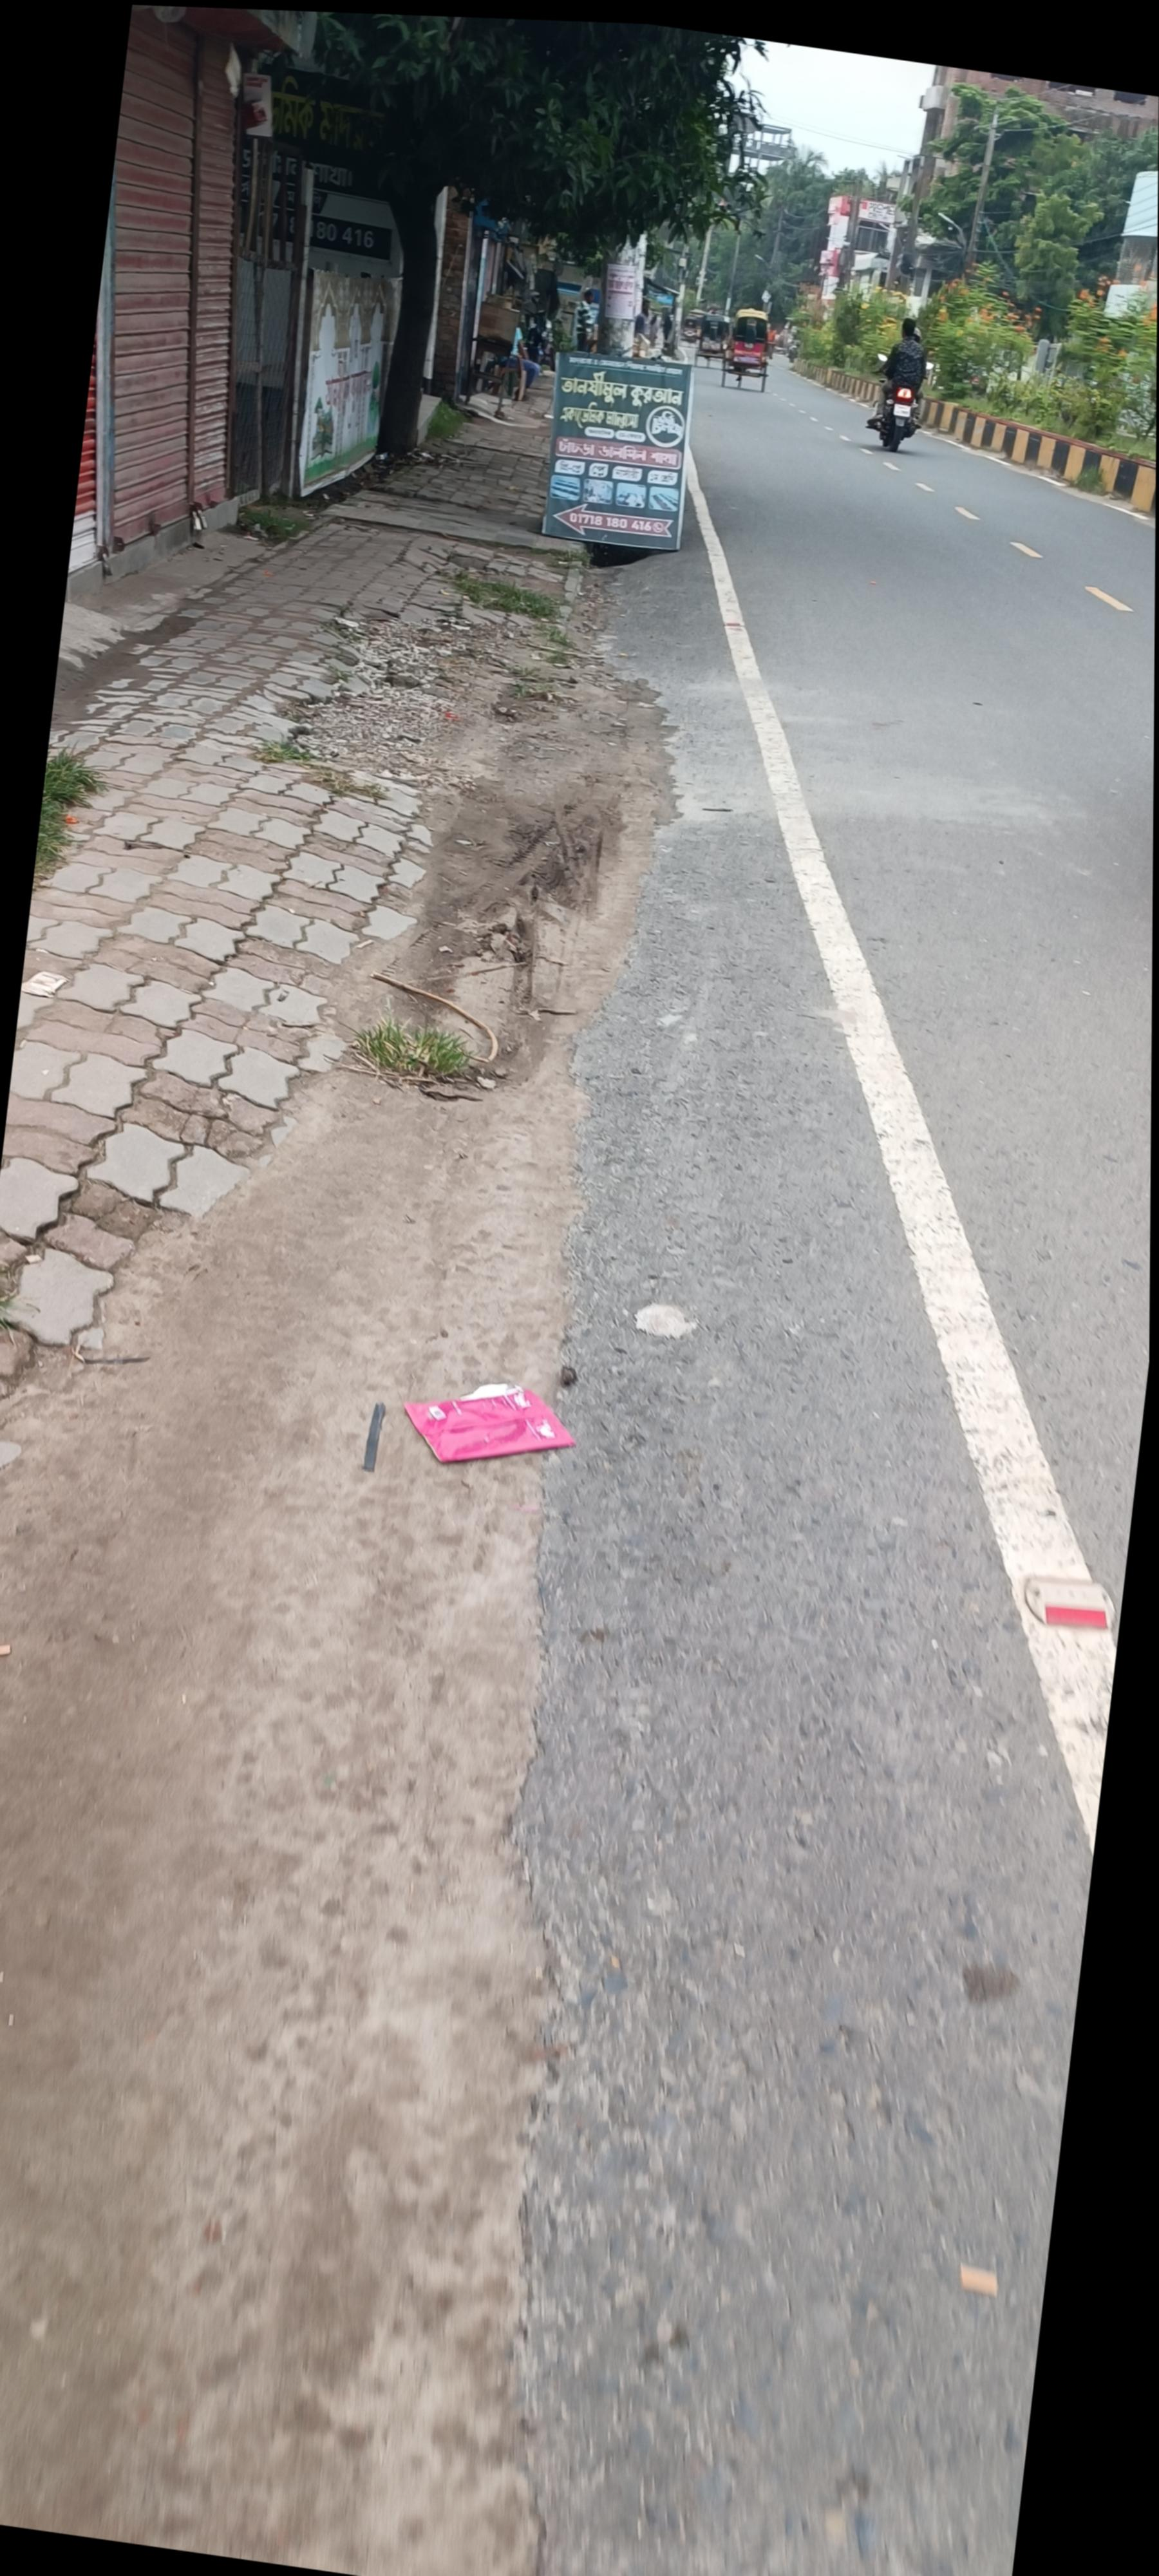Fallen-tree: (995, 297, 1065, 401)
Garbage: (667, 289, 842, 516)
Pothole: (0, 240, 908, 2551)
